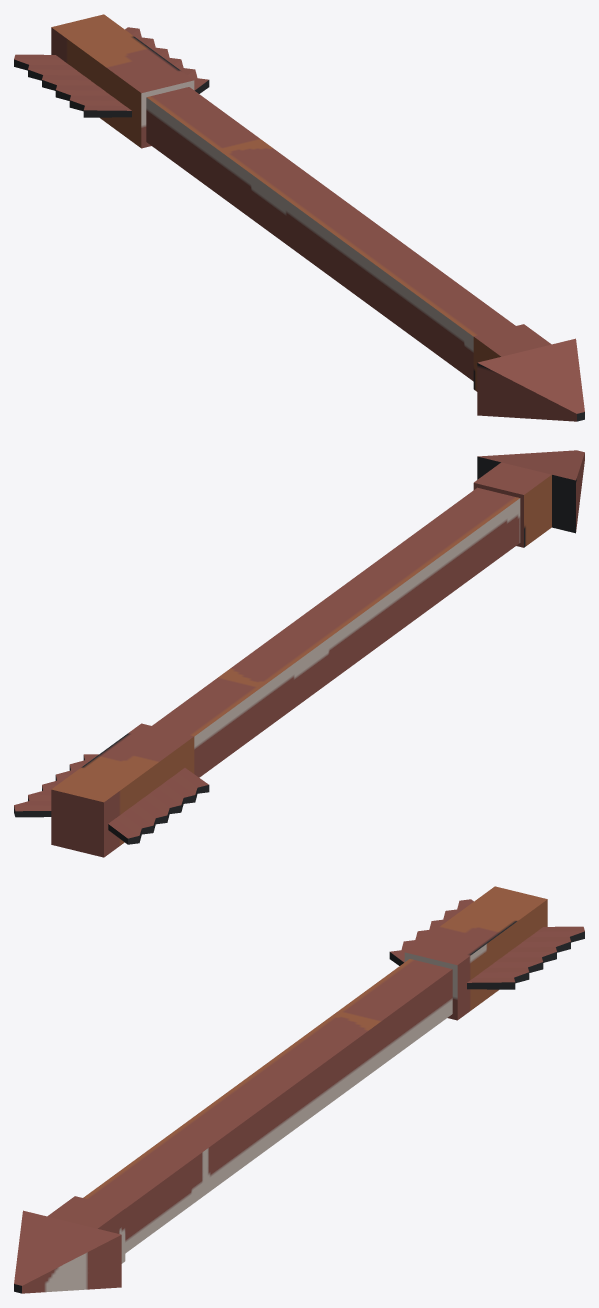
The model's file is arrow.fbx.
3 views of the same model, one above another, from view 1: azimuth 30°, elevation 25°; view 2: azimuth 150°, elevation 25°; view 3: azimuth 330°, elevation 25° (orthographic).
Parts seen in each view (by area): view 1: Cube.002; view 2: Cube.002; view 3: Cube.002.
Part boxes in pixels (box(x1,y1,x2,y2)): Cube.002: box(14, 14, 584, 421); Cube.002: box(14, 450, 584, 857); Cube.002: box(14, 886, 584, 1293).
Bounding box in the file's own units: 25.65 × 10.79 × 180.
1 material, 1 textured.
